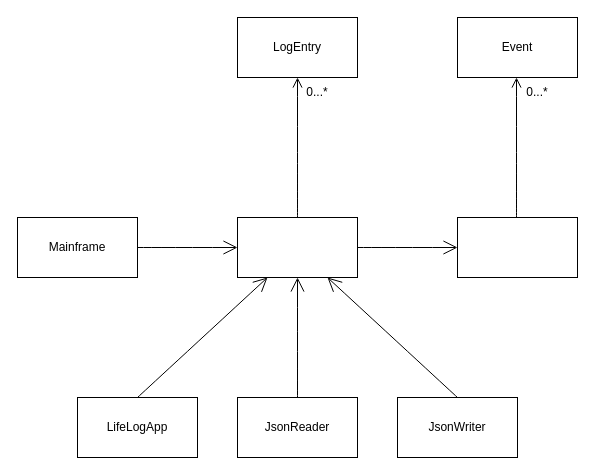
Some shapes in this 595 by 475 pixel diagram are drawn without their labels. Here are the shapes that lost their labels. From the top down, the centre of each, then its label:
At (x=297, y=247): "LifeLog".
At (x=517, y=247): "EventLog".
